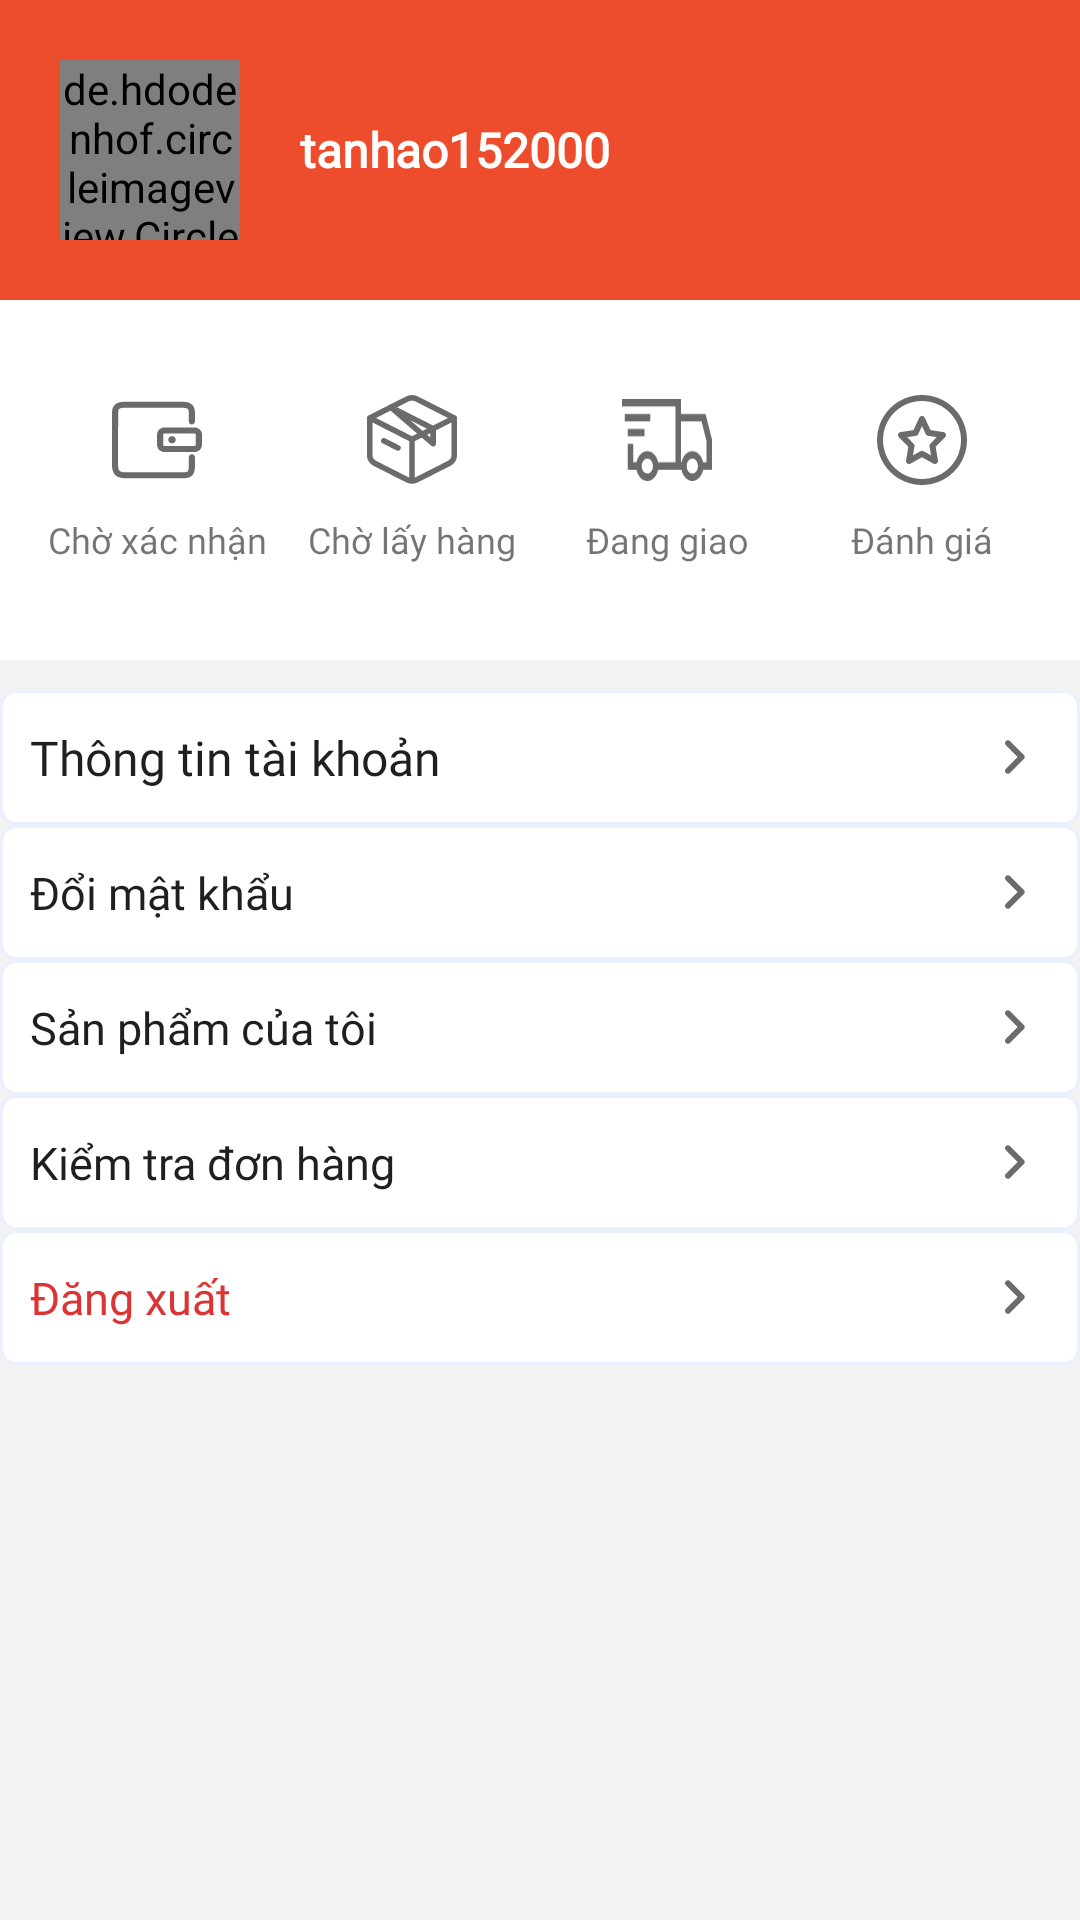

Icons on this 1080×1920 Android screen, each with its box as (x1, y1, x2, y2):
pay: (112, 401, 202, 479)
recive: (367, 395, 457, 484)
